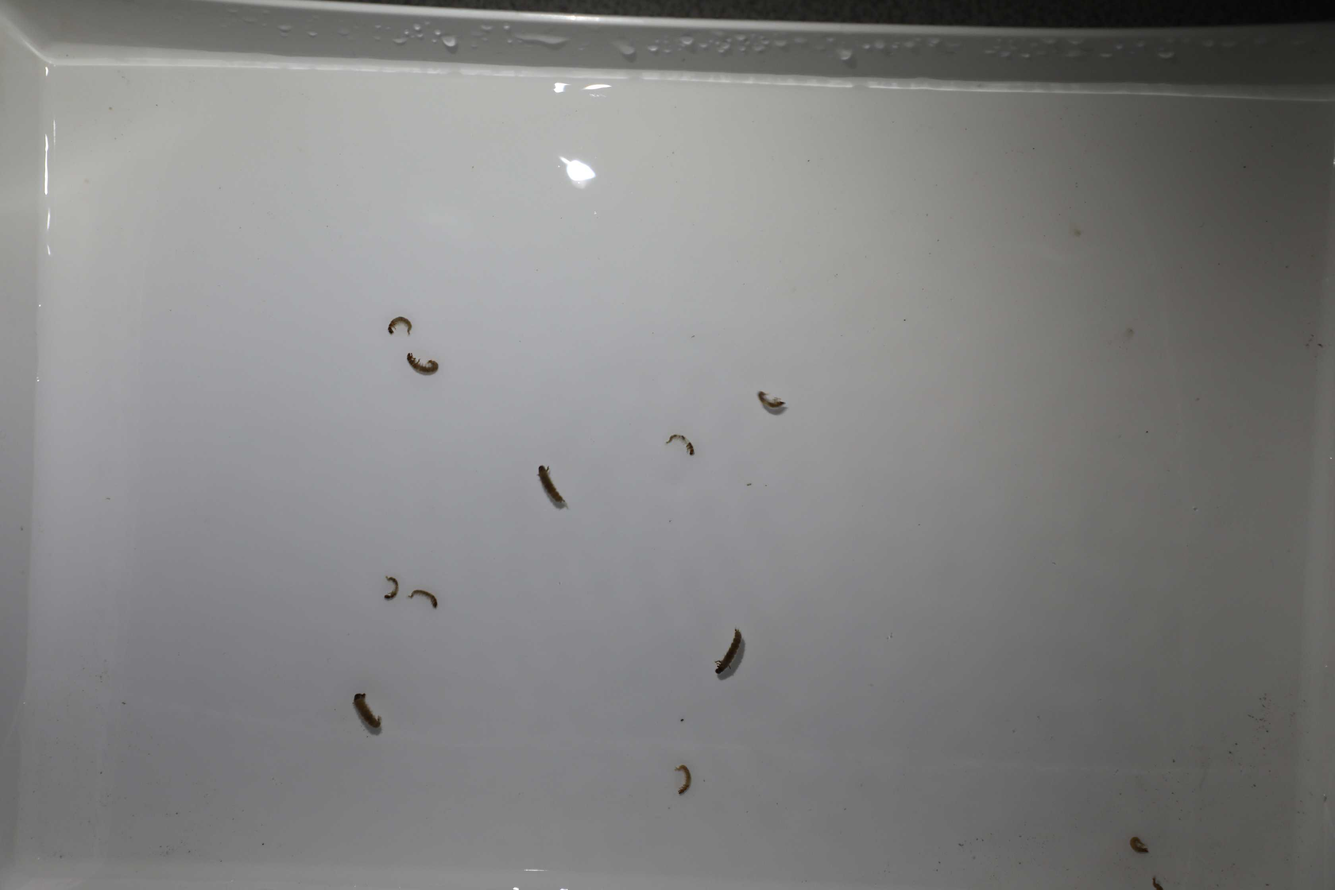Cadisfly: (530, 464, 570, 514), (712, 624, 746, 682), (350, 690, 386, 736), (665, 428, 700, 467), (751, 386, 789, 418), (403, 350, 441, 380), (381, 307, 416, 338), (375, 571, 405, 603), (670, 763, 695, 799), (409, 585, 439, 613), (1129, 839, 1153, 859)
